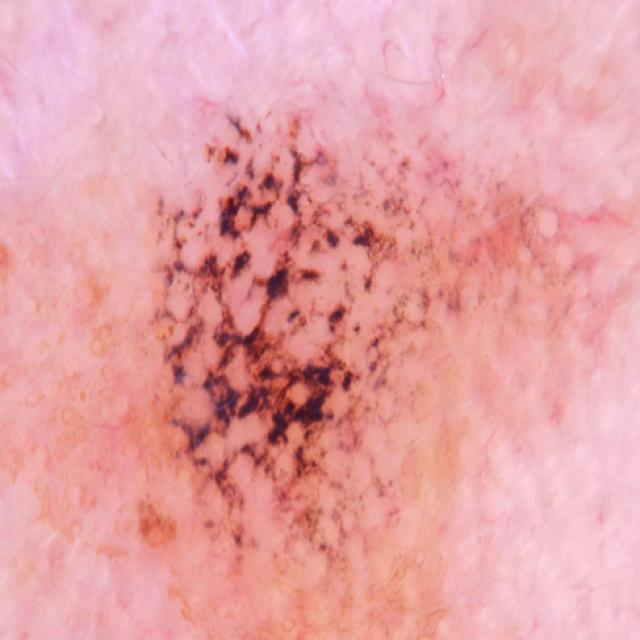Keratosis: (97, 38, 601, 640)
